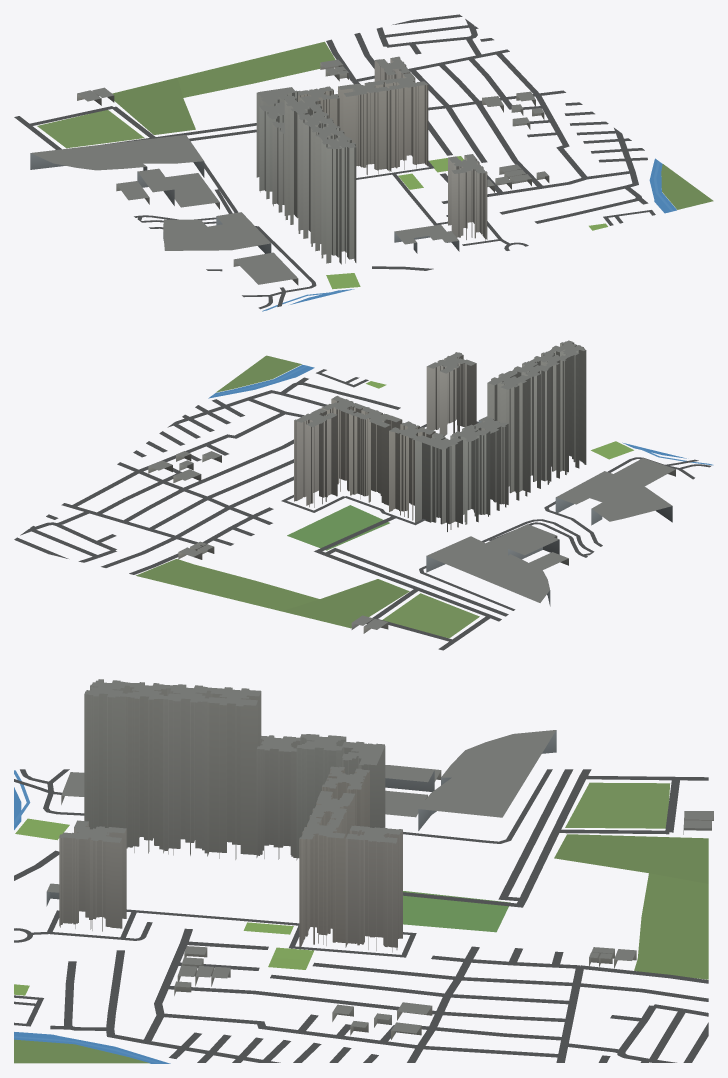
3 renders of one model, top to bottom at view 1: azimuth 30°, elevation 25°; view 2: azimuth 150°, elevation 25°; view 3: azimuth 270°, elevation 25°, orthographic. The views are drawn at different scales.
Parts seen in each view (by area): view 1: building, ground, water; view 2: building, ground, water; view 3: building, ground, water.
Part boxes in pixels (x1,y1,x2,y2): building: (30,56,549,285); ground: (14,14,713,309); water: (262,158,676,311); building: (148,340,675,633); ground: (14,355,711,650); water: (208,364,713,465); building: (46,679,713,1039); ground: (14,769,708,1063); water: (14,770,170,1063).
Size of the model in its own units: 531 by 123 by 504.
